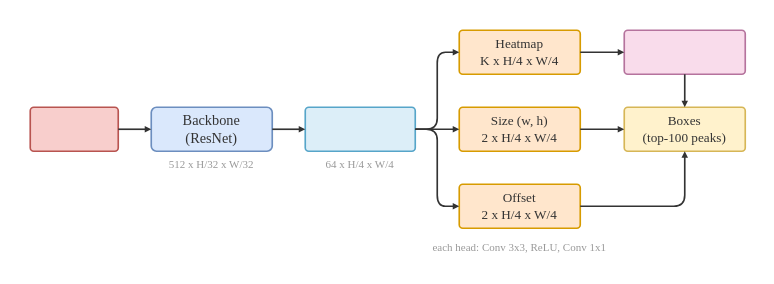
Some shapes in this 774 by 284 pixel diagram are drawn without their labels. The centre of each missing label's shape, as x and y in pixels:
Image 3 x H x W: point (74, 129)
Peak Extraction (3x3 max-pool): point (684, 52)
Upsample 3 x Deconv: point (360, 129)
